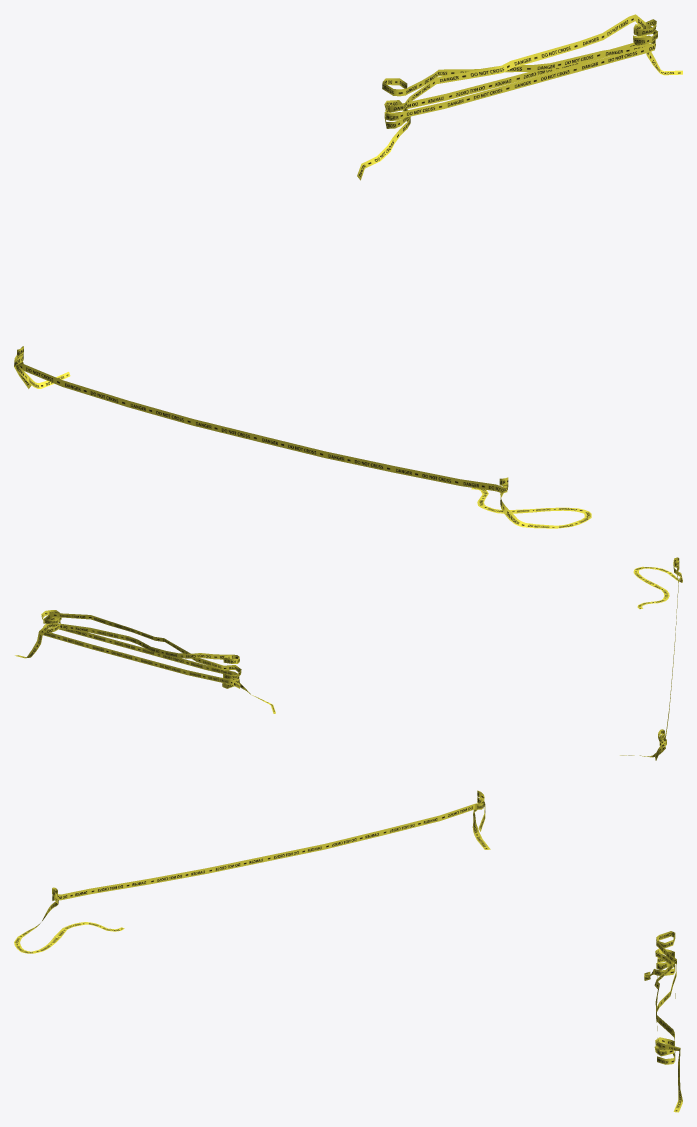
Rendered from jingjiedai_02.fbx.
3 renders of one model, top to bottom at view 1: azimuth 30°, elevation 25°; view 2: azimuth 150°, elevation 25°; view 3: azimuth 270°, elevation 25°, orthographic. The views are drawn at different scales.
Visible parts, largest first — view 1: jingjiedai_04; view 2: jingjiedai_04; view 3: jingjiedai_04.
Part boxes in pixels (left/top/right/bottom): jingjiedai_04: left=14, top=14, right=682, bottom=528; jingjiedai_04: left=15, top=557, right=682, bottom=760; jingjiedai_04: left=14, top=790, right=682, bottom=1112.
Bounding box in the file's own units: 21905 × 3074 × 19117.
